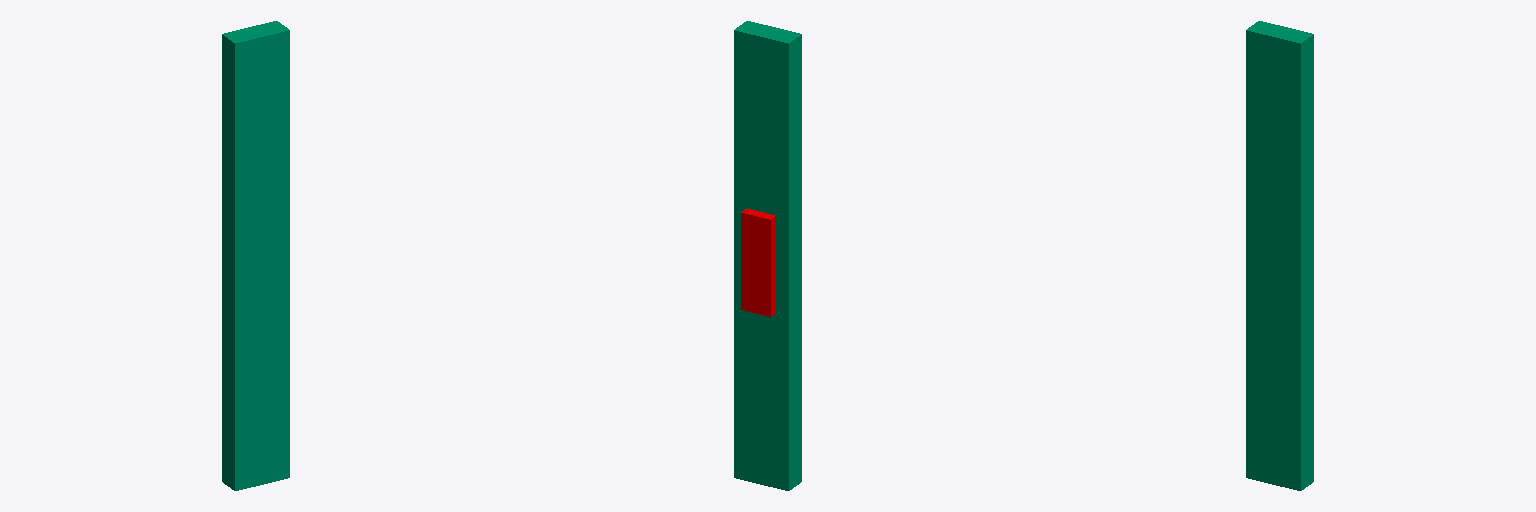
robot.urdf — knife:
<?xml version='1.0' encoding='utf-8'?>
<robot name="knife">
  <link name="base" /><joint name="joint_0" type="fixed"><origin xyz="0 0 0" rpy="0 0 0" /><parent link="base" /><child link="link_0" /></joint><link name="link_1">
    <visual name="link_1">
      <origin xyz="0 0.005735 0" rpy="0 0 0" />
      <geometry>
        <box size="0.01040800994260863 0.0033837624433682373 0.03280617685672392" /></geometry>
    <material name="red"><color rgba="1 0 0 1" /></material></visual>
    <collision>
      <origin xyz="0 0.005735 0" rpy="0 0 0" />
      <geometry>
        <box size="0.01040800994260863 0.0033837624433682373 0.03280617685672392" /></geometry>
    </collision>
    </link>
  <joint name="joint_1" type="prismatic">
    <origin xyz="0 0 0" />
    <axis xyz="0 0 1" />
    <child link="link_1" />
    <parent link="link_0" />
    <limit lower="-0.035228" upper="0.014772" effort="100.0" velocity="1.0" />
  </joint>
  <link name="link_0">
    <visual name="link_0">
      <origin xyz="0 0 0" />
      <geometry>
        <box size="0.019466106900310875 0.008086354917267552 0.15075338660284465" /></geometry>
    </visual>
    <collision>
      <origin xyz="0 0 0" />
      <geometry>
        <box size="0.019466106900310875 0.008086354917267552 0.15075338660284465" /></geometry>
    </collision>
    </link>
</robot>

--- Render facts (derived) ---
3 views of the same robot in one strip: view 1: azimuth 30°, elevation 25°; view 2: azimuth 150°, elevation 25°; view 3: azimuth 330°, elevation 25° (orthographic).
Model knife with 3 links and 2 joints (1 prismatic, 1 fixed), rooted at base, posed every joint at zero.
Links seen in each view (by area): view 1: link_0; view 2: link_0, link_1; view 3: link_0.
Boxes of the visible links, bbox=[...] form: link_0: bbox=[222, 21, 289, 490]; link_0: bbox=[734, 21, 801, 490]; link_1: bbox=[741, 209, 775, 316]; link_0: bbox=[1246, 21, 1313, 490].
Size in the robot's own frame: 0.0195 by 0.0115 by 0.1508 metres.
Geometry: primitives only (box / cylinder / sphere), no mesh files.
